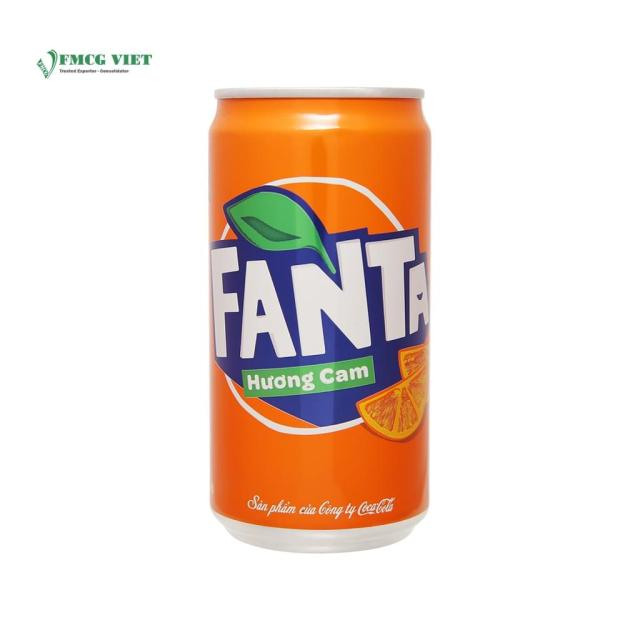fanta: (195, 88, 433, 555)
